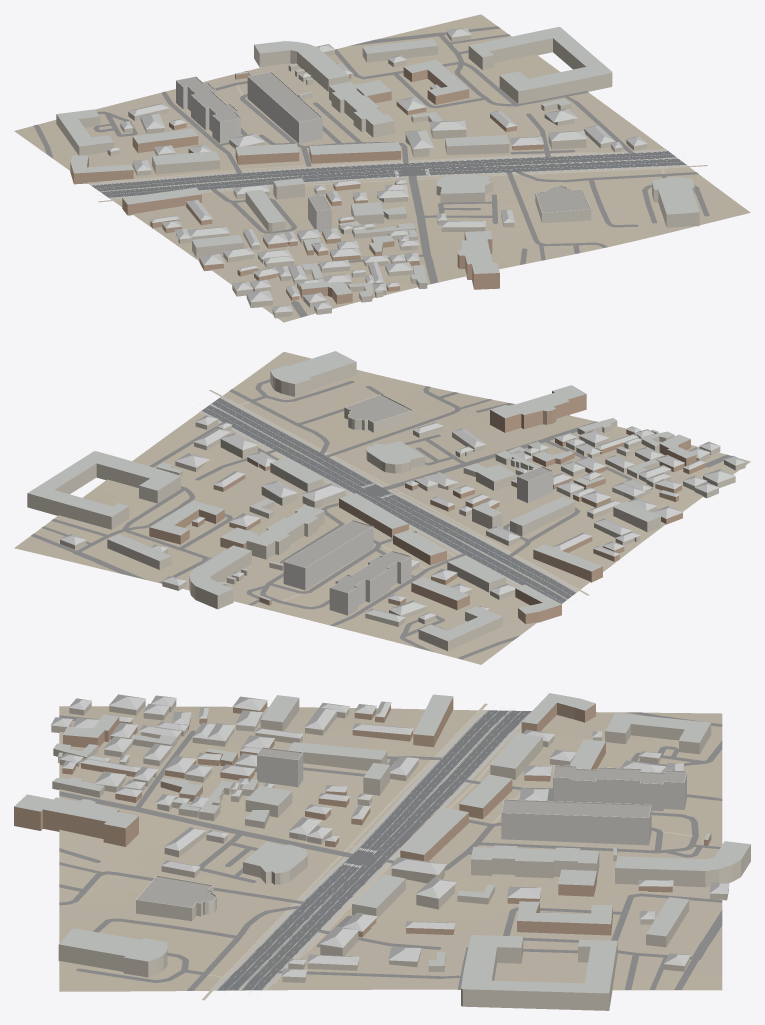
Rendered from bolak_-8_-2.glb.
3 renders of one model, top to bottom at view 1: azimuth 30°, elevation 25°; view 2: azimuth 150°, elevation 25°; view 3: azimuth 270°, elevation 25°, orthographic. The views are drawn at different scales.
Parts seen in each view (by area): view 1: Yer_Tuproq-col, Tom_Shifer, Devor_Suvoq-col, Yol_Mahalla-col, Devor_Gisht-col, Yol_Asfalt-col, Devor_Panel-col, Tom_Tekis, Trotuar, Yol_Piyoda, Yol_Chiziq, Devor_Jamoat-col; view 2: Yer_Tuproq-col, Tom_Shifer, Devor_Suvoq-col, Yol_Mahalla-col, Devor_Gisht-col, Yol_Asfalt-col, Devor_Panel-col, Tom_Tekis, Trotuar, Yol_Piyoda, Devor_Jamoat-col, Yol_Chiziq; view 3: Yer_Tuproq-col, Tom_Shifer, Devor_Suvoq-col, Yol_Mahalla-col, Yol_Asfalt-col, Devor_Gisht-col, Devor_Panel-col, Tom_Tekis, Trotuar, Yol_Piyoda, Yol_Chiziq, Devor_Jamoat-col.
Boxes of the visible parts, <box> form: Yer_Tuproq-col: <box>14,14,750,322</box>; Tom_Shifer: <box>56,26,699,312</box>; Devor_Suvoq-col: <box>56,32,699,318</box>; Yol_Mahalla-col: <box>33,26,709,317</box>; Devor_Gisht-col: <box>70,67,543,304</box>; Yol_Asfalt-col: <box>92,151,686,197</box>; Devor_Panel-col: <box>176,71,331,231</box>; Tom_Tekis: <box>177,72,589,212</box>; Trotuar: <box>89,149,688,199</box>; Yol_Piyoda: <box>98,85,707,202</box>; Yol_Chiziq: <box>88,150,688,198</box>; Devor_Jamoat-col: <box>535,186,591,222</box>; Yer_Tuproq-col: <box>14,352,750,664</box>; Tom_Shifer: <box>27,351,745,641</box>; Devor_Suvoq-col: <box>27,362,745,651</box>; Yol_Mahalla-col: <box>31,379,732,659</box>; Devor_Gisht-col: <box>149,391,705,624</box>; Yol_Asfalt-col: <box>202,398,575,603</box>; Devor_Panel-col: <box>283,466,552,615</box>; Tom_Tekis: <box>286,395,550,592</box>; Trotuar: <box>199,396,577,599</box>; Yol_Piyoda: <box>209,390,589,601</box>; Devor_Jamoat-col: <box>344,394,413,432</box>; Yol_Chiziq: <box>198,397,581,604</box>; Yer_Tuproq-col: <box>59,706,722,991</box>; Tom_Shifer: <box>14,693,750,993</box>; Devor_Suvoq-col: <box>51,698,750,1010</box>; Yol_Mahalla-col: <box>59,712,722,990</box>; Yol_Asfalt-col: <box>217,710,531,990</box>; Devor_Gisht-col: <box>14,697,711,937</box>; Devor_Panel-col: <box>257,747,686,845</box>; Tom_Tekis: <box>137,748,685,907</box>; Trotuar: <box>211,710,528,990</box>; Yol_Piyoda: <box>202,703,692,1000</box>; Yol_Chiziq: <box>216,704,530,996</box>; Devor_Jamoat-col: <box>136,875,216,921</box>.
Size of what is drawn, in the model's own units: 438 by 23.61 by 445.
